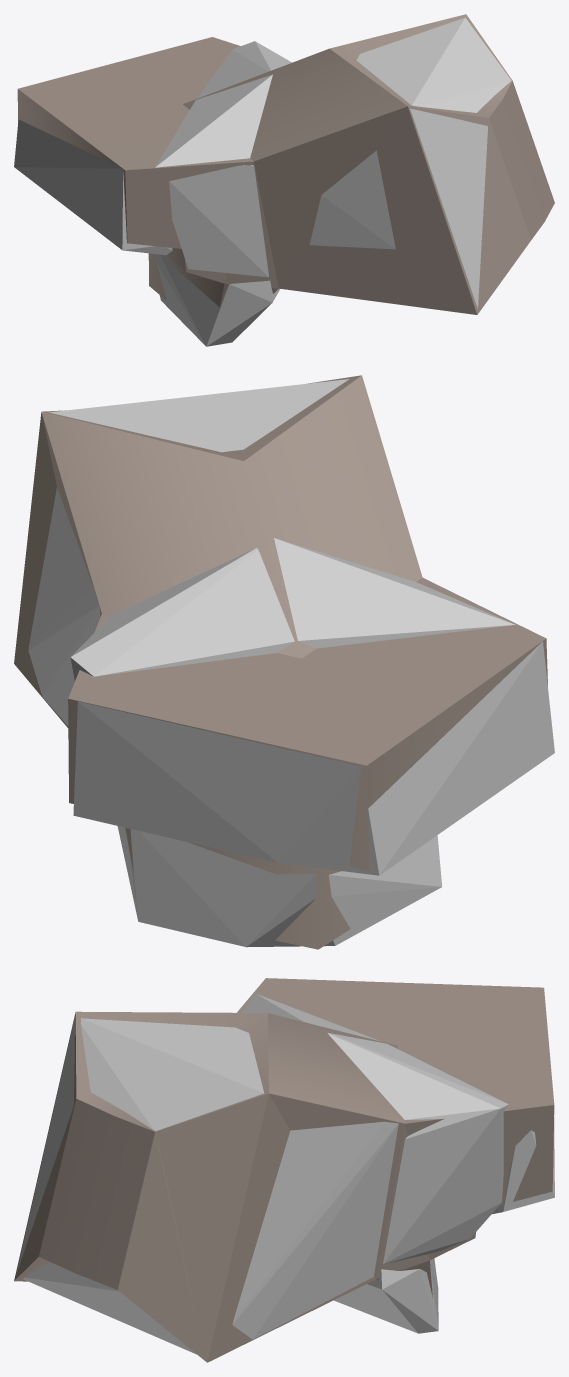
The model's file is SM_Bld_Roof_Trim_Corner_01.fbx.
The picture shows the model from 3 angles, top to bottom: view 1: azimuth 30°, elevation 25°; view 2: azimuth 150°, elevation 25°; view 3: azimuth 270°, elevation 25°; orthographic projection. The views are drawn at different scales.
Parts seen in each view (by area): view 1: SM_Bld_Roof_Trim_Corner_01, SM_Bld_Roof_Trim_Corner_01_ConvexHulls; view 2: SM_Bld_Roof_Trim_Corner_01_ConvexHulls, SM_Bld_Roof_Trim_Corner_01; view 3: SM_Bld_Roof_Trim_Corner_01, SM_Bld_Roof_Trim_Corner_01_ConvexHulls.
Boxes of the visible parts, box(x1,y1,x2,y2) form: SM_Bld_Roof_Trim_Corner_01: box(17, 14, 554, 314); SM_Bld_Roof_Trim_Corner_01_ConvexHulls: box(14, 17, 511, 346); SM_Bld_Roof_Trim_Corner_01_ConvexHulls: box(28, 379, 554, 947); SM_Bld_Roof_Trim_Corner_01: box(14, 375, 547, 949); SM_Bld_Roof_Trim_Corner_01: box(14, 978, 554, 1362); SM_Bld_Roof_Trim_Corner_01_ConvexHulls: box(16, 993, 554, 1354).
Bounding box in the file's own units: 90.21 × 89.34 × 58.09.
2 materials, 1 textured.
